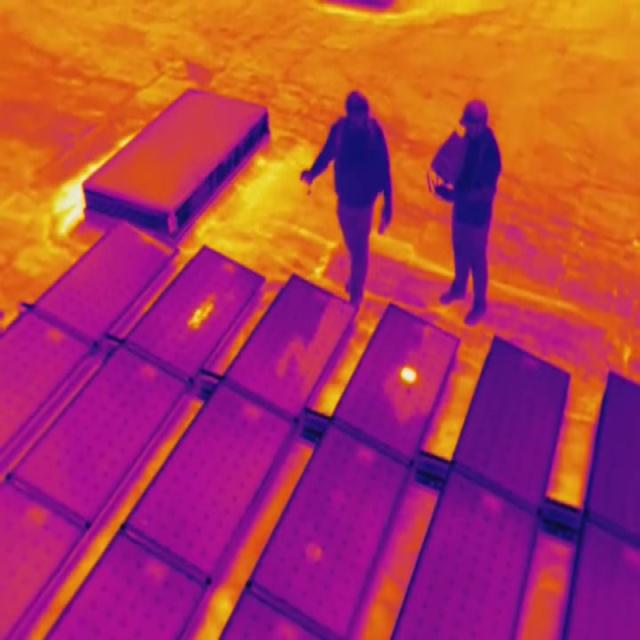Orange-Spots: (188, 295, 215, 329), (396, 362, 422, 390), (305, 535, 326, 569)
